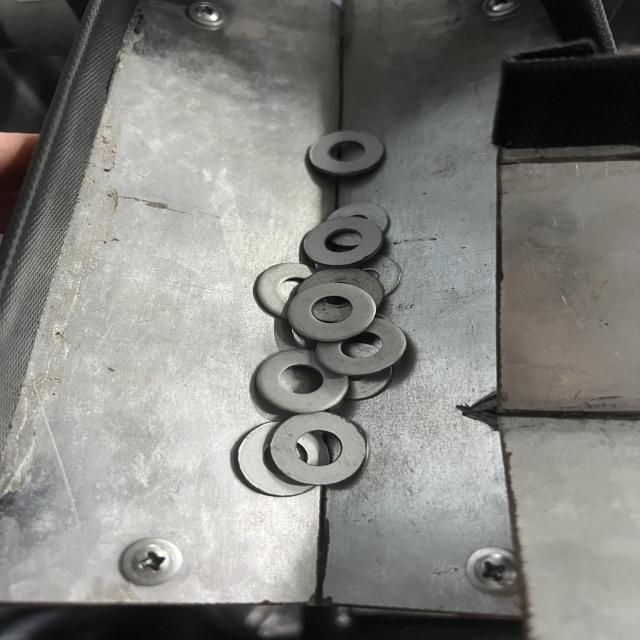washer: (270, 411, 370, 486), (287, 284, 374, 342), (302, 217, 385, 264), (310, 128, 386, 176)
